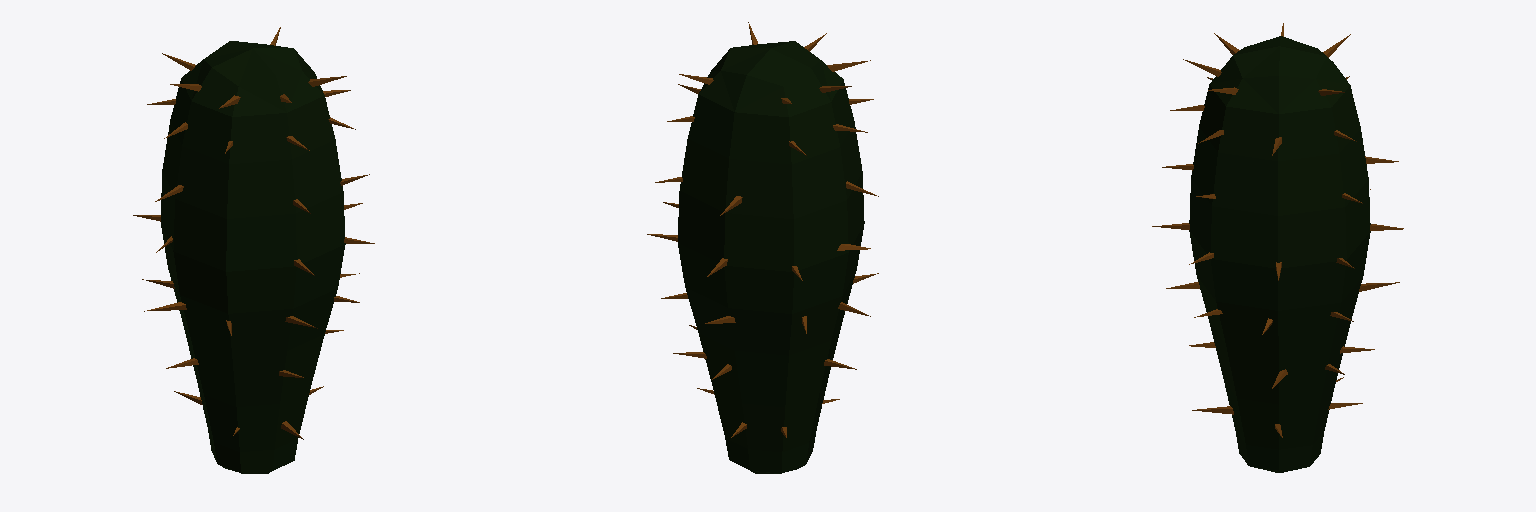
The model's file is Cactus_1.obj.
3 renders of one model, left to right at view 1: azimuth 30°, elevation 25°; view 2: azimuth 150°, elevation 25°; view 3: azimuth 270°, elevation 25°, orthographic.
Parts seen in each view (by area): view 1: Cactus_1_Cube.005; view 2: Cactus_1_Cube.005; view 3: Cactus_1_Cube.005.
Boxes of the visible parts, x1,y1,x2,y2 form: Cactus_1_Cube.005: [133, 27, 374, 473]; Cactus_1_Cube.005: [647, 22, 878, 473]; Cactus_1_Cube.005: [1152, 23, 1403, 472].
Bounding box in the file's own units: 0.5497 × 1.01 × 0.5629.